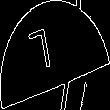L_S: (41, 27, 69, 83)
